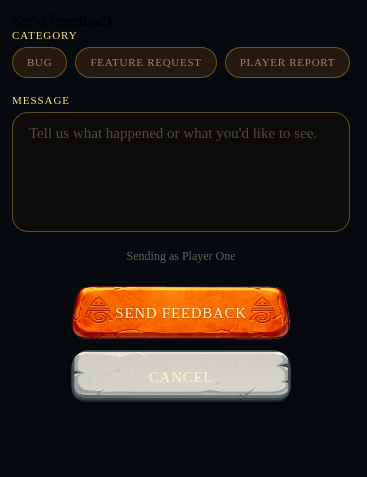
Scenario: FeedbackComposerModal › requires a category and message before submitting
Click the button labelled "Send Feedback": (181, 313) 71,286 -> 291,340
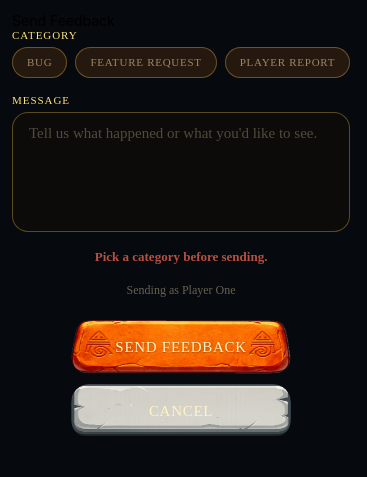
Check: the text "Pick a category before sending." is shown, box 95,249 -> 267,264
Click the button "Bug": (40, 62) 12,47 -> 67,78
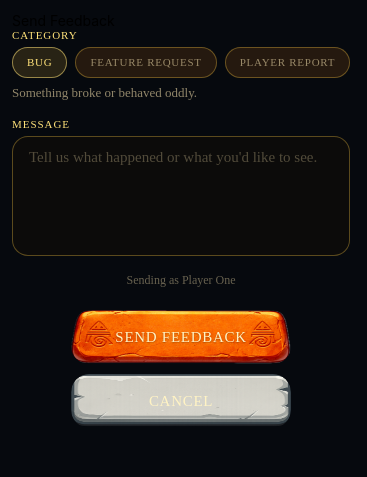
Click the button labelled "Send Feedback": (181, 337) 71,310 -> 291,364
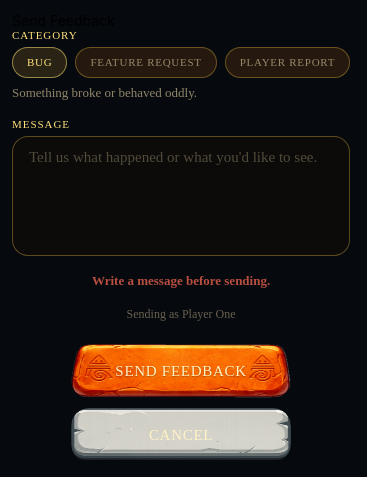
Check: the text "Write a message before sending." is shown, box 92,273 -> 270,288
